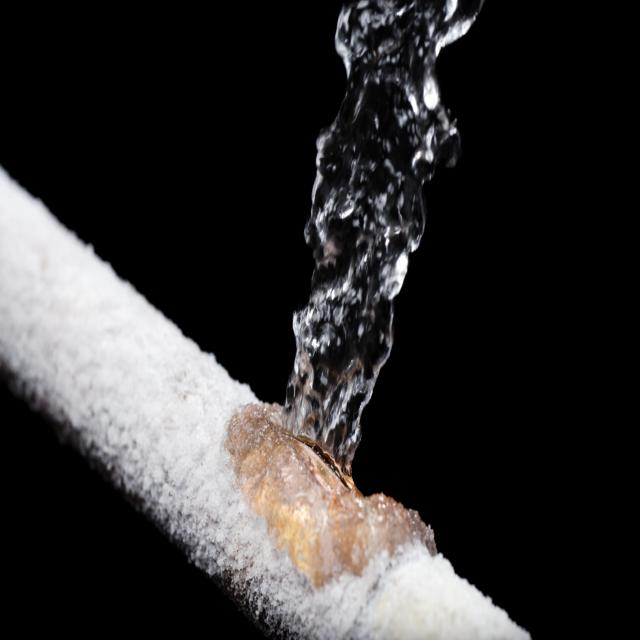leak: (282, 0, 481, 475)
